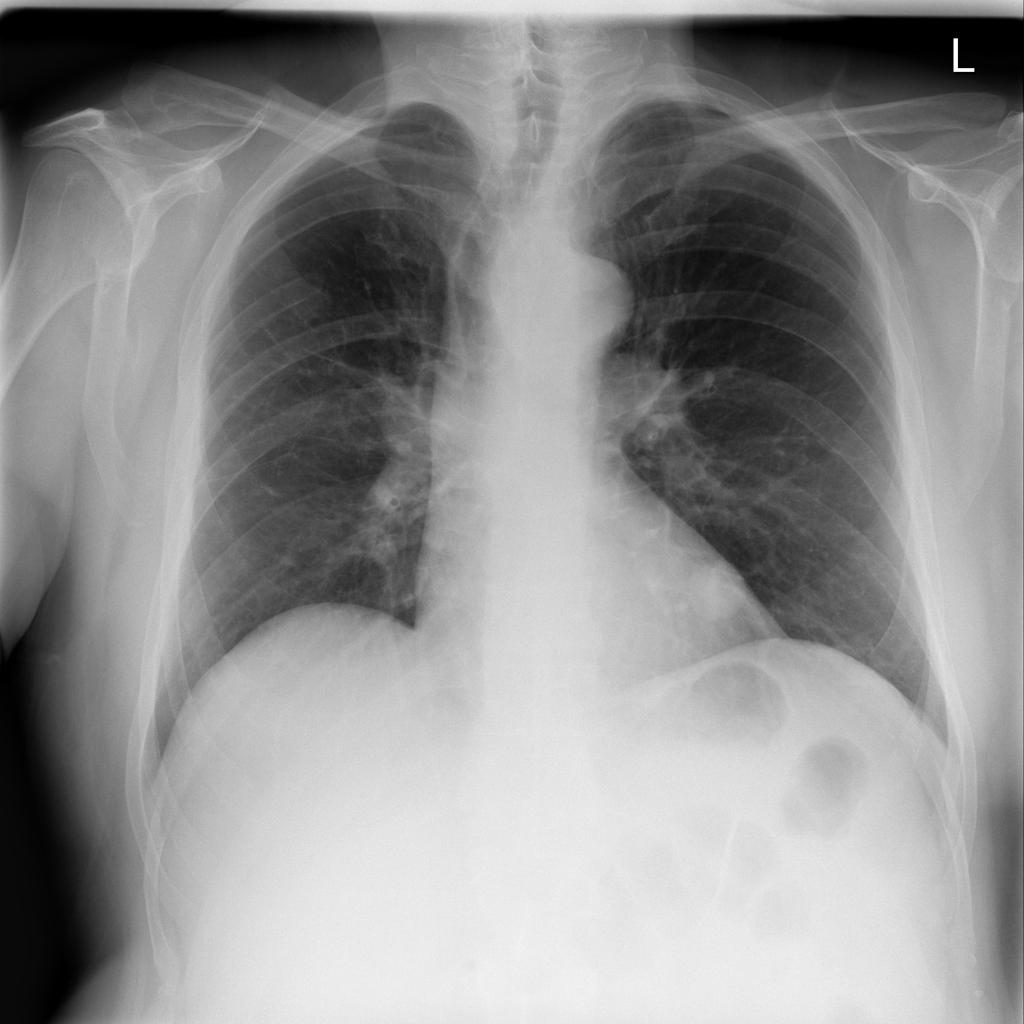nodule: (676, 548, 757, 628)
